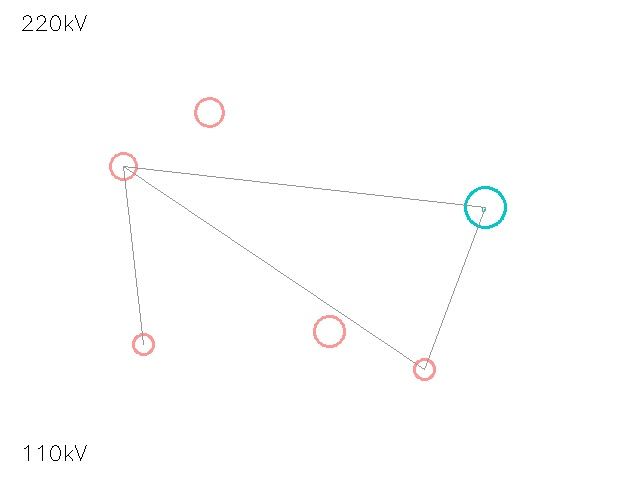current_transformer: (180, 83, 238, 141)
disconnect_switch: (404, 349, 444, 389)
feeder_terminal: (97, 140, 149, 192)
generator: (465, 187, 505, 227)
load_break_switch: (298, 300, 360, 362)
reactor: (122, 323, 164, 365)
